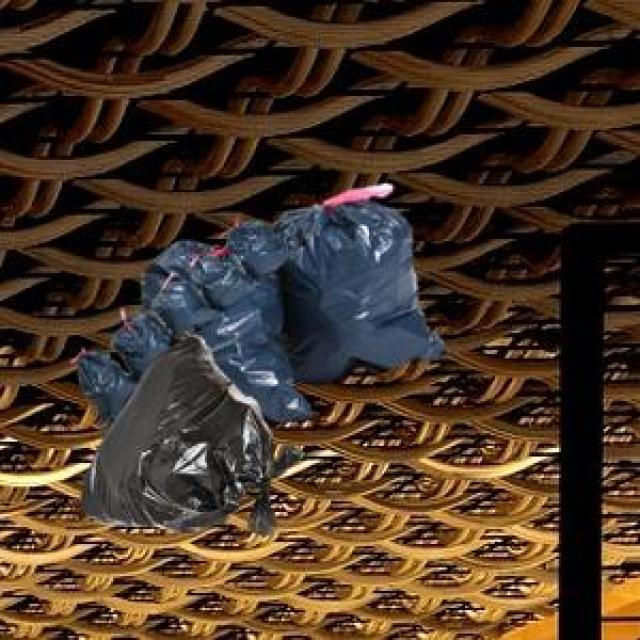waste: (78, 202, 442, 531)
